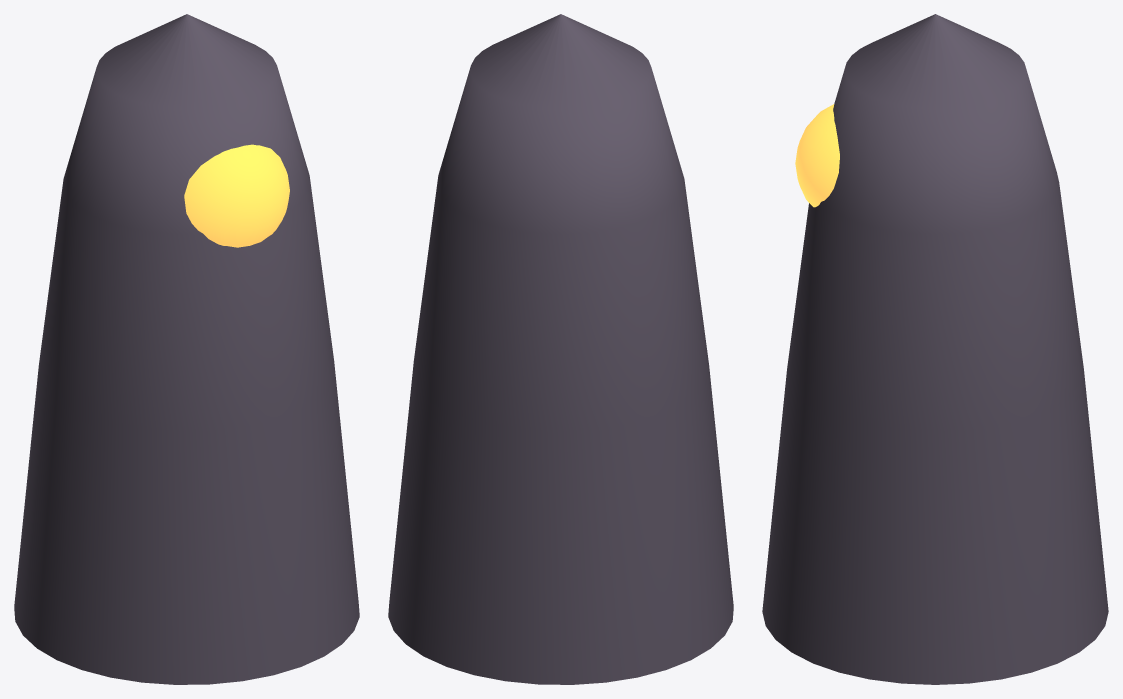
Rendered from wisp.glb.
3 views of the same model, side by side, from view 1: azimuth 30°, elevation 25°; view 2: azimuth 150°, elevation 25°; view 3: azimuth 270°, elevation 25° (orthographic).
Parts seen in each view (by area): view 1: wisp, core; view 2: wisp; view 3: wisp, core.
Part boxes in pixels (box(x1,y1,x2,y2)): wisp: box(14, 14, 359, 684); core: box(184, 144, 289, 247); wisp: box(388, 14, 733, 684); wisp: box(762, 14, 1108, 684); core: box(795, 104, 839, 207).
Size of the model in its own units: 0.84 by 1.65 by 0.84.
